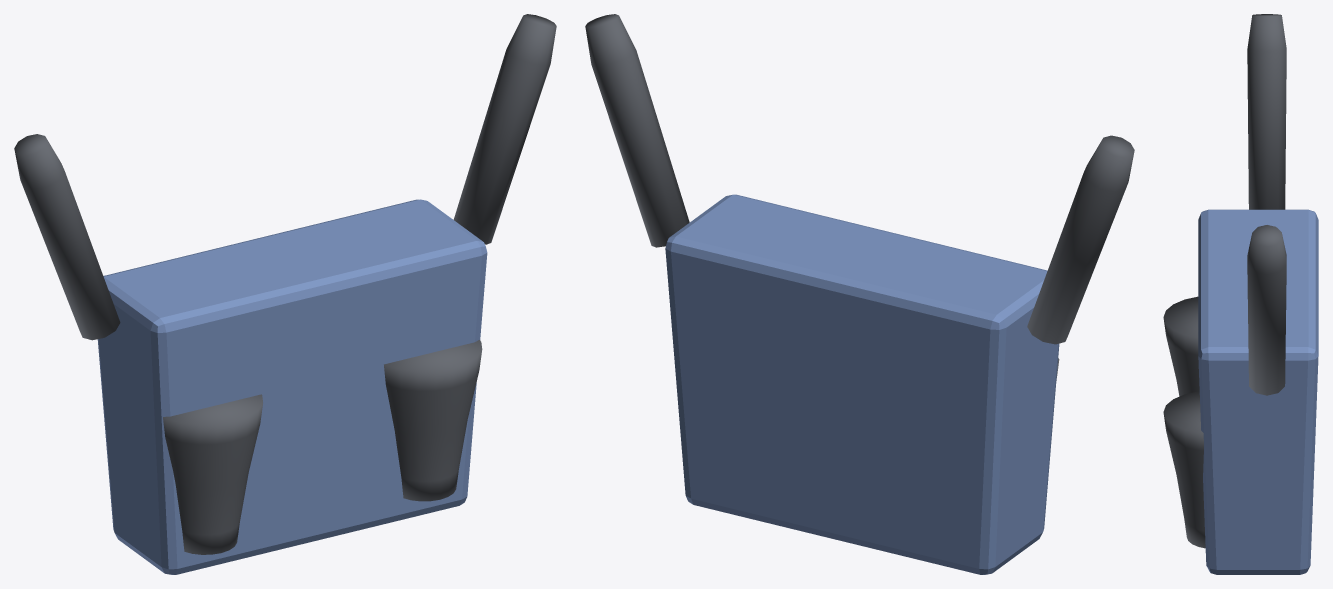
The model's file is back_general.glb.
The picture shows the model from 3 angles, left to right: view 1: azimuth 30°, elevation 25°; view 2: azimuth 150°, elevation 25°; view 3: azimuth 270°, elevation 25°; orthographic projection. The views are drawn at different scales.
Visible parts, largest first — view 1: pack, thruster, thruster.001, saber.001, saber; view 2: pack, saber.001, saber; view 3: pack, saber, saber.001, thruster.001, thruster.
Part boxes in pixels (<box>): pack: <box>97,199,487,574</box>; thruster: <box>163,394,262,554</box>; thruster.001: <box>384,340,482,501</box>; saber.001: <box>453,14,556,244</box>; saber: <box>14,134,120,340</box>; pack: <box>665,194,1059,574</box>; saber.001: <box>585,14,689,247</box>; saber: <box>1027,135,1134,344</box>; pack: <box>1198,209,1318,574</box>; saber: <box>1247,14,1286,209</box>; saber.001: <box>1247,225,1286,395</box>; thruster.001: <box>1163,391,1205,548</box>; thruster: <box>1163,296,1199,396</box>.
Size of the model in its own units: 5.42 by 4.26 by 1.53.
